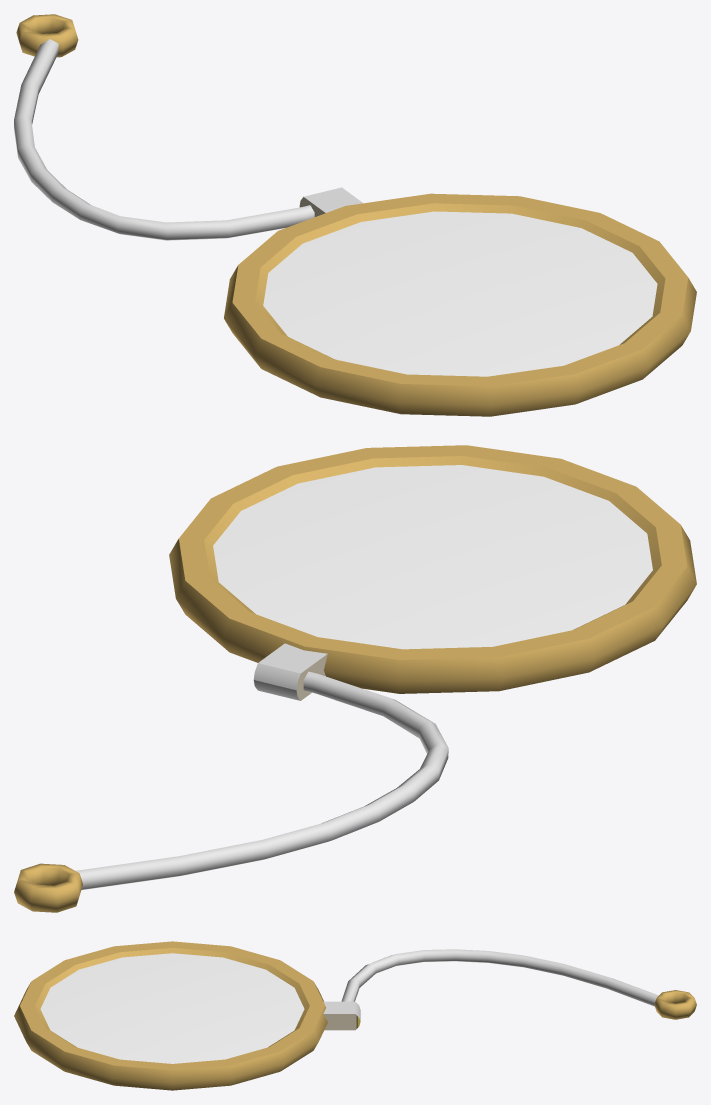
The model's file is Monocle.fbx.
3 renders of one model, top to bottom at view 1: azimuth 30°, elevation 25°; view 2: azimuth 150°, elevation 25°; view 3: azimuth 270°, elevation 25°, orthographic. The views are drawn at different scales.
Parts seen in each view (by area): view 1: Monacle:RoadKillOut; view 2: Monacle:RoadKillOut; view 3: Monacle:RoadKillOut.
Part boxes in pixels (<box>): Monacle:RoadKillOut: <box>14,14,696,416</box>; Monacle:RoadKillOut: <box>14,445,696,912</box>; Monacle:RoadKillOut: <box>14,941,696,1090</box>.
Size of the model in its own units: 25.8 by 1.9 by 55.6.
